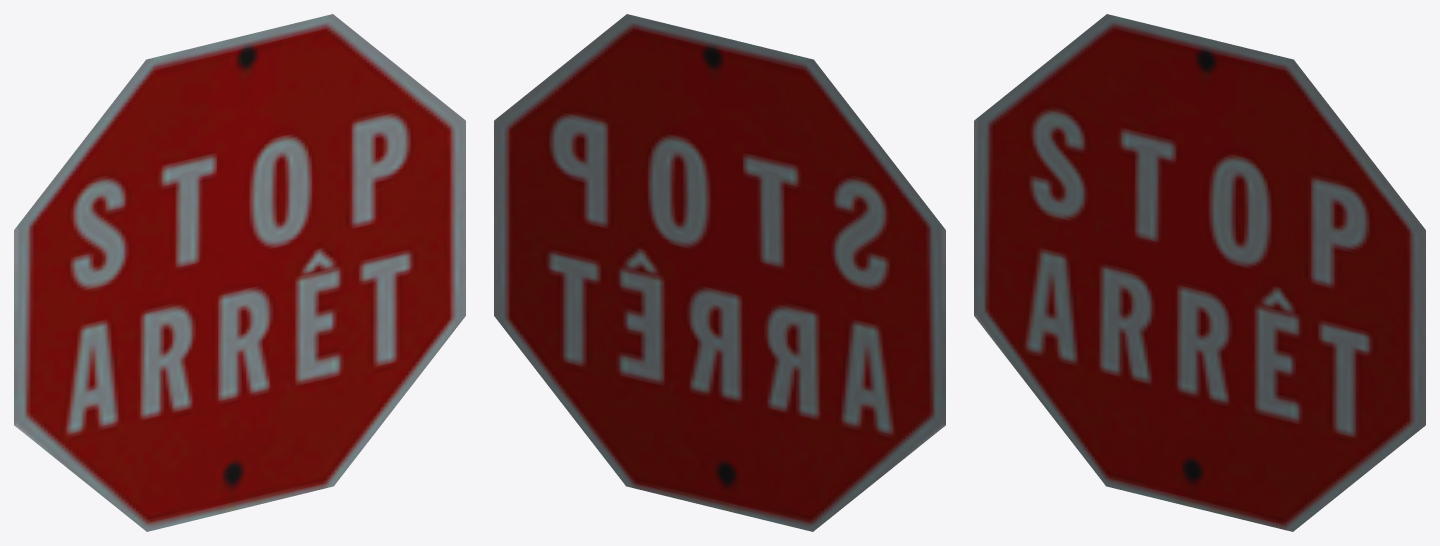
The model's file is StopSign.fbx.
3 views of the same model, side by side, from view 1: azimuth 30°, elevation 25°; view 2: azimuth 150°, elevation 25°; view 3: azimuth 330°, elevation 25° (orthographic).
Visible parts, largest first — view 1: StopSign; view 2: StopSign; view 3: StopSign.
Boxes of the visible parts, x1,y1,x2,y2 form: StopSign: (14,14,465,531); StopSign: (494,14,945,531); StopSign: (974,14,1425,531).
Bounding box in the file's own units: 10.42 × 10.42 × 0.0326.
